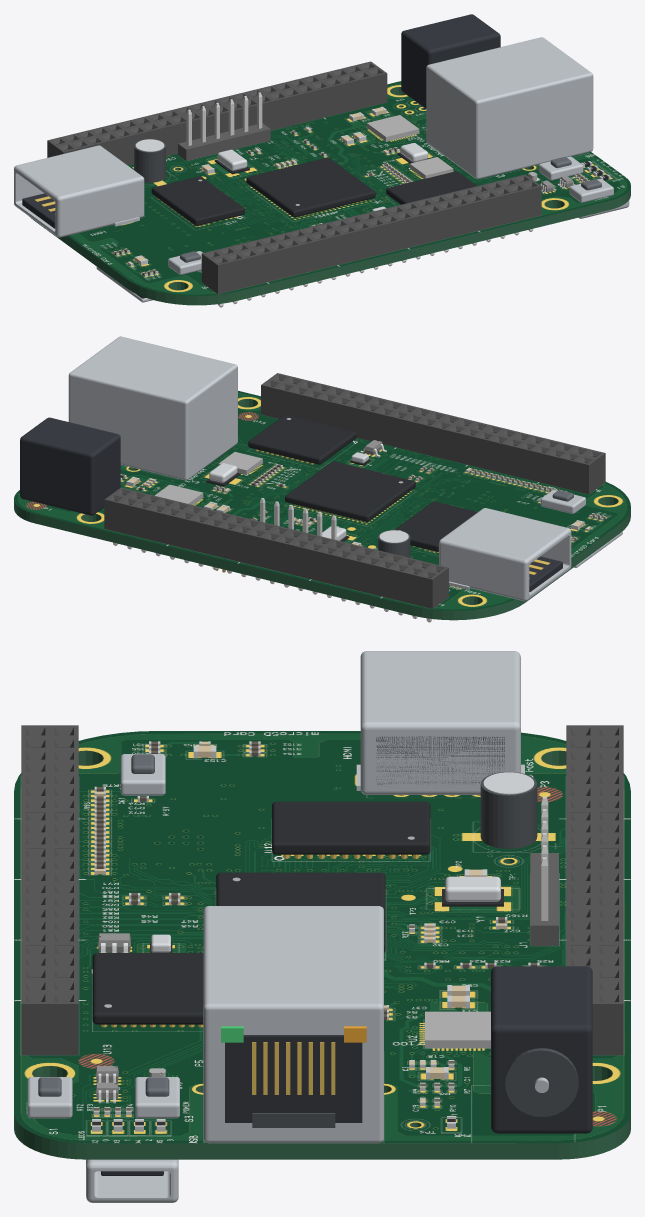
Rendered from without-hdmi.glb.
The picture shows the model from 3 angles, top to bottom: view 1: azimuth 30°, elevation 25°; view 2: azimuth 150°, elevation 25°; view 3: azimuth 270°, elevation 25°; orthographic projection. The views are drawn at different scales.
Parts seen in each view (by area): view 1: Box0, P5, P8, P9, P3, U5, P1, J1, U12, U13, C34, U2 (+6 smaller); view 2: Box0, P5, P9, P8, P3, P1, U5, U13, U12, J1, S2, C34 (+3 smaller); view 3: Box0, P5, P3, P8, P1, P9, U12, U13, U5, C34, P4, J1 (+5 smaller).
Part boxes in pixels (bbox=[...]): Box0: bbox=[29, 81, 630, 305]; P5: bbox=[426, 37, 593, 179]; P8: bbox=[201, 174, 541, 307]; P9: bbox=[47, 61, 387, 165]; P3: bbox=[14, 145, 144, 237]; U5: bbox=[246, 157, 375, 217]; P1: bbox=[401, 14, 500, 108]; J1: bbox=[178, 92, 270, 161]; U12: bbox=[151, 176, 244, 226]; U13: bbox=[386, 171, 476, 204]; C34: bbox=[134, 139, 165, 182]; U2: bbox=[367, 115, 419, 141]; Box0: bbox=[14, 391, 630, 620]; P5: bbox=[68, 336, 237, 480]; P9: bbox=[104, 487, 448, 622]; P8: bbox=[261, 373, 605, 494]; P3: bbox=[439, 508, 571, 601]; P1: bbox=[20, 417, 120, 515]; U5: bbox=[285, 461, 415, 522]; U13: bbox=[248, 415, 356, 464]; U12: bbox=[395, 501, 477, 552]; J1: bbox=[260, 498, 336, 539]; S2: bbox=[540, 489, 585, 513]; C34: bbox=[378, 530, 410, 557]; Box0: bbox=[14, 731, 630, 1159]; P5: bbox=[203, 906, 383, 1143]; P3: bbox=[356, 651, 524, 794]; P8: bbox=[21, 725, 78, 1055]; P1: bbox=[491, 966, 592, 1133]; P9: bbox=[566, 725, 623, 1055]; U12: bbox=[272, 801, 430, 858]; U13: bbox=[92, 953, 203, 1027]; U5: bbox=[216, 872, 385, 952]; C34: bbox=[480, 772, 537, 848]; P4: bbox=[86, 1159, 178, 1202]; J1: bbox=[530, 796, 558, 945].
Bounding box in the file's own units: 89.27 × 19.6 × 54.64.
29 materials, 2 textured.
